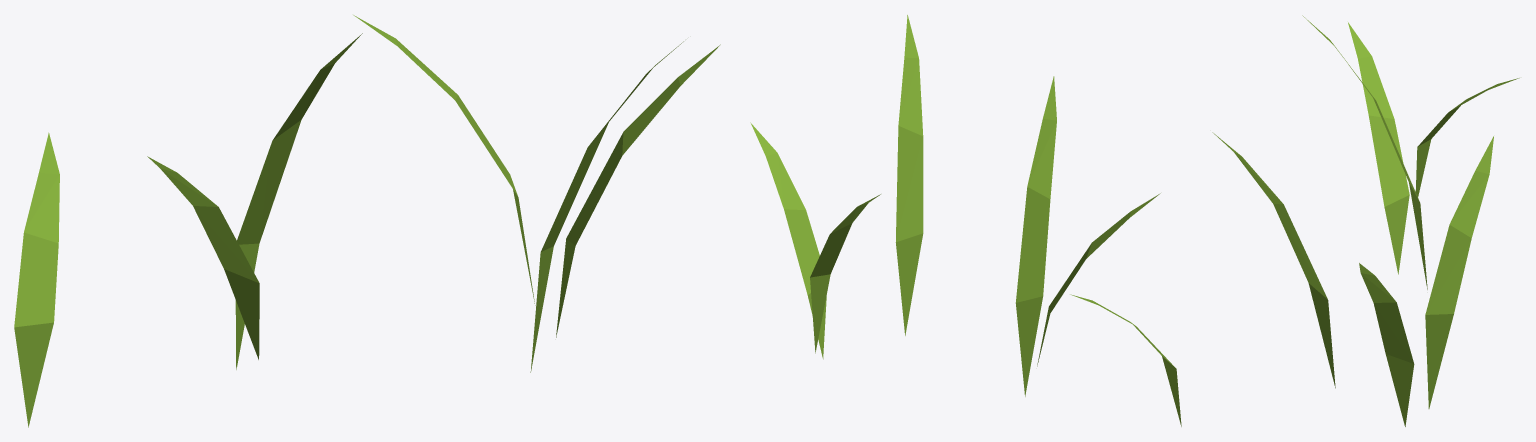
Rendered from grass-small-a.fbx.
3 views of the same model, side by side, from view 1: azimuth 30°, elevation 25°; view 2: azimuth 150°, elevation 25°; view 3: azimuth 270°, elevation 25° (orthographic). The views are drawn at different scales.
Visible parts, largest first — view 1: grass-small-a; view 2: grass-small-a; view 3: grass-small-a.
Boxes of the visible parts, x1,y1,x2,y2 form: grass-small-a: (14,15,720,427); grass-small-a: (750,15,1181,426); grass-small-a: (1212,15,1519,426).
Size of the model in its own units: 0.4438 by 0.271 by 0.241.
